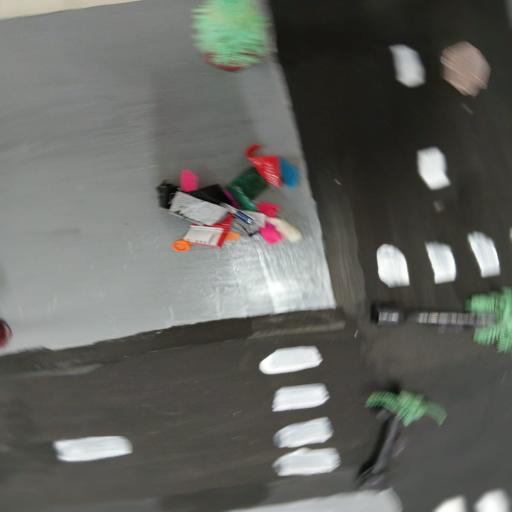fallen trees: (344, 386, 452, 494), (367, 286, 512, 349)
porthole: (434, 37, 498, 96)
trash: (148, 139, 323, 266)
